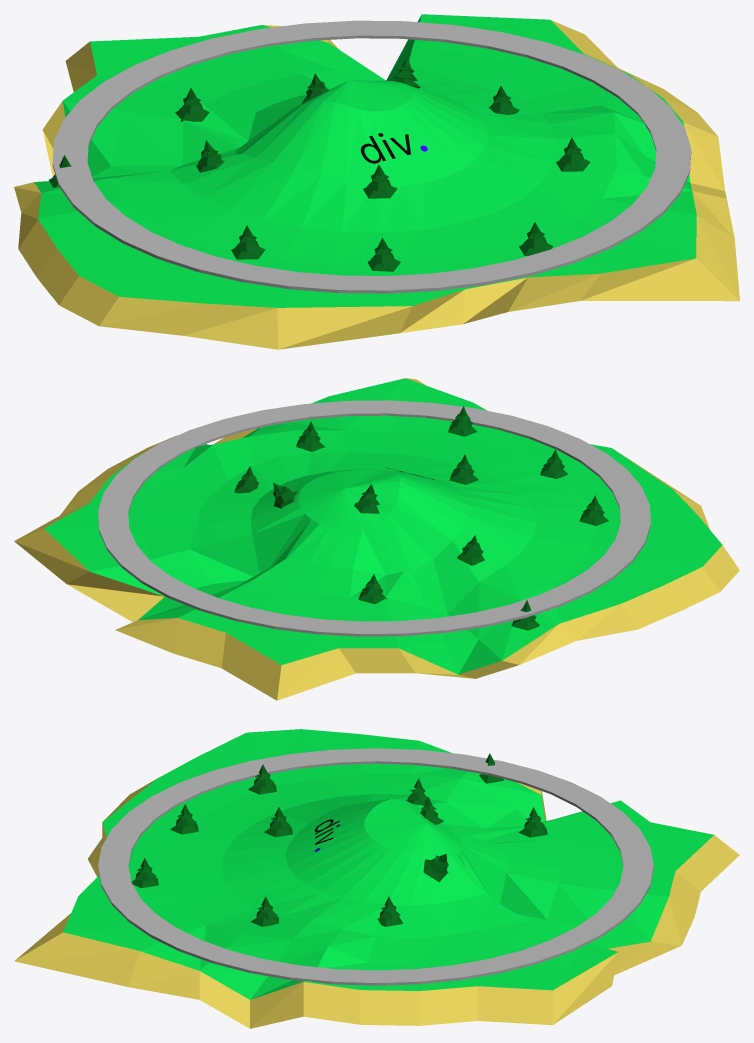
File: portal-final-3.glb
3 views of the same model, one above another, from view 1: azimuth 30°, elevation 25°; view 2: azimuth 150°, elevation 25°; view 3: azimuth 270°, elevation 25° (orthographic). The views are drawn at different scales.
Visible parts, largest first — view 1: земля, песок, дорога, дерево.002, дерево.006, дерево.005, дерево.003, дерево.010, дерево.004; view 2: земля, дорога, песок; view 3: земля, песок, дорога, дерево.
Boxes of the visible parts, <box> form: земля: <box>34,14,696,307</box>; песок: <box>14,20,739,349</box>; дорога: <box>52,20,691,293</box>; дерево.002: <box>231,225,265,259</box>; дерево.006: <box>363,164,397,198</box>; дерево.005: <box>556,137,590,171</box>; дерево.003: <box>367,238,400,271</box>; дерево.010: <box>175,88,209,121</box>; дерево.004: <box>519,222,553,255</box>; земля: <box>44,378,722,674</box>; дорога: <box>98,400,650,636</box>; песок: <box>14,378,739,700</box>; земля: <box>63,729,713,999</box>; песок: <box>14,779,739,1028</box>; дорога: <box>98,748,653,985</box>; дерево: <box>423,853,448,882</box>.
Size of what is drawn, in the model's own units: 3.73 by 0.695 by 4.01.
